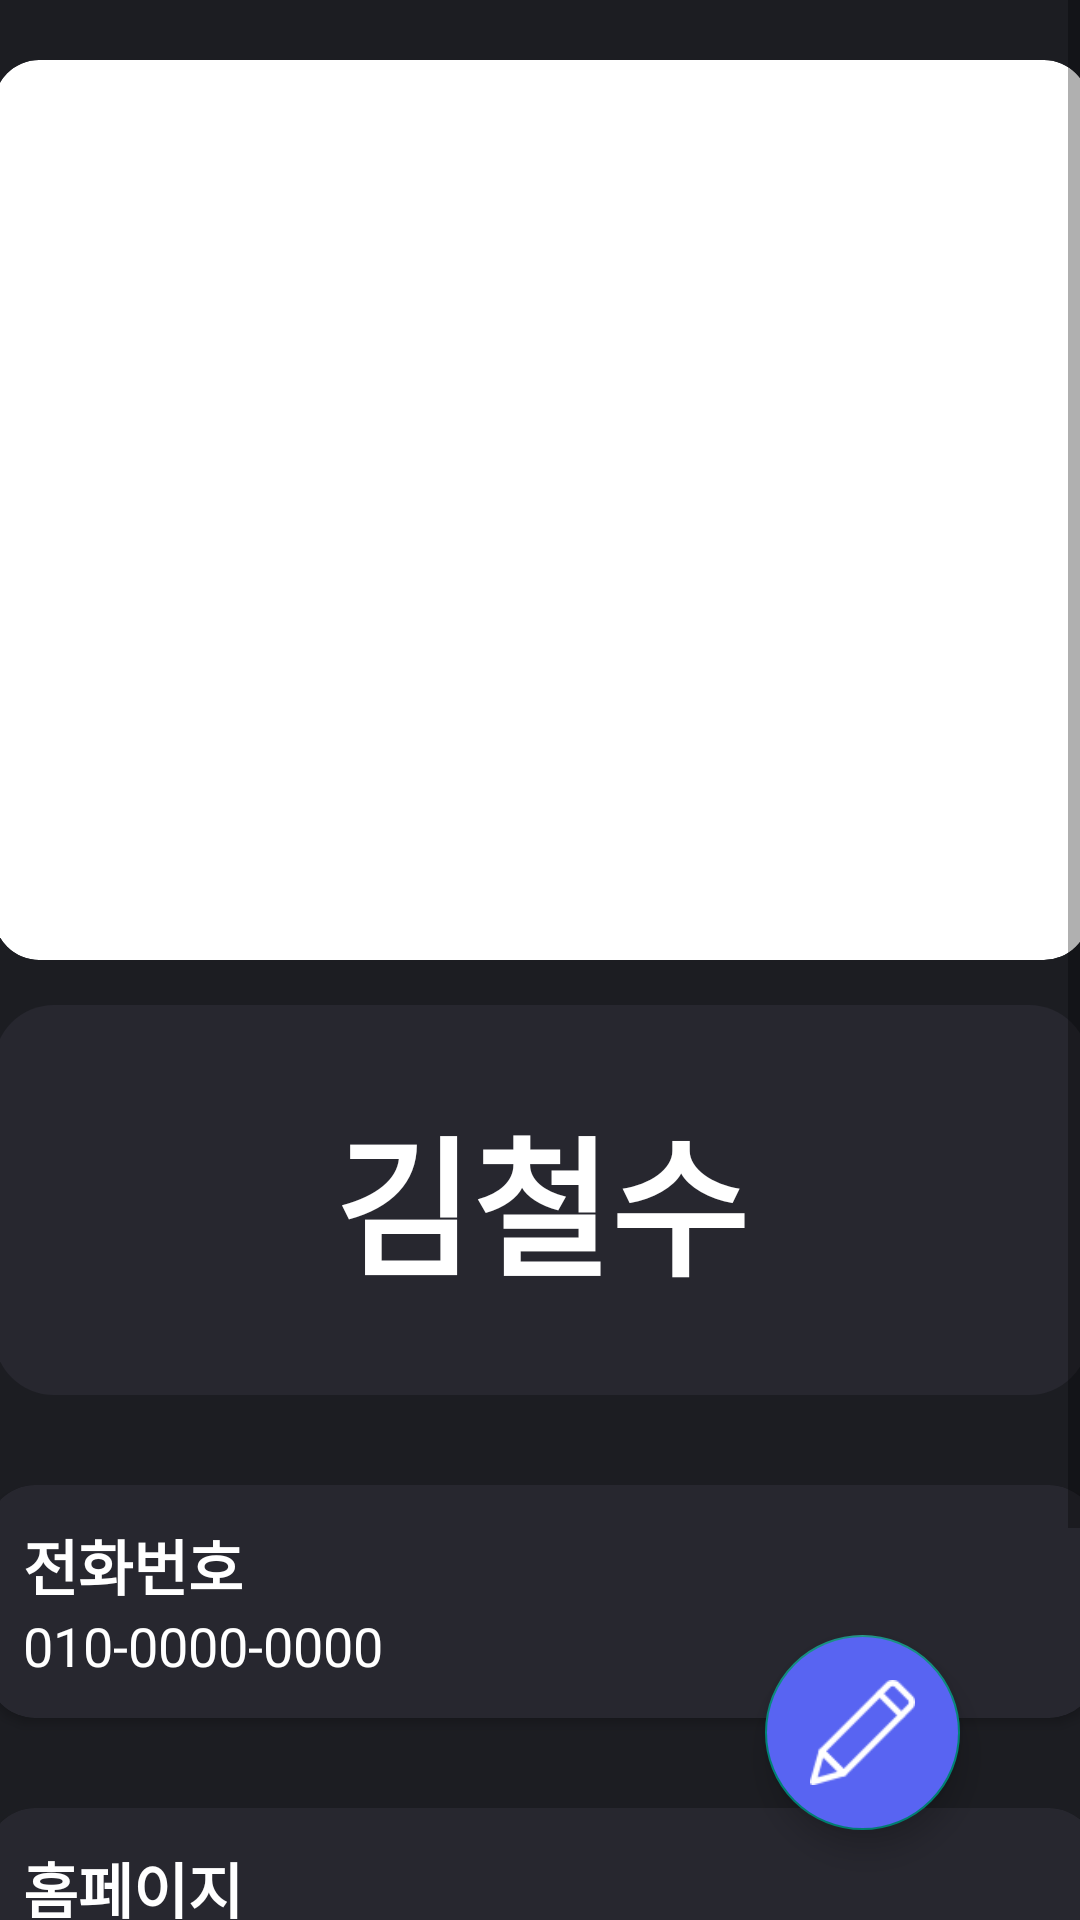

Screen size 1080 x 1920. Icon name, then its center in pixels as (x=x, y=y):
edit: (x=862, y=1732)
